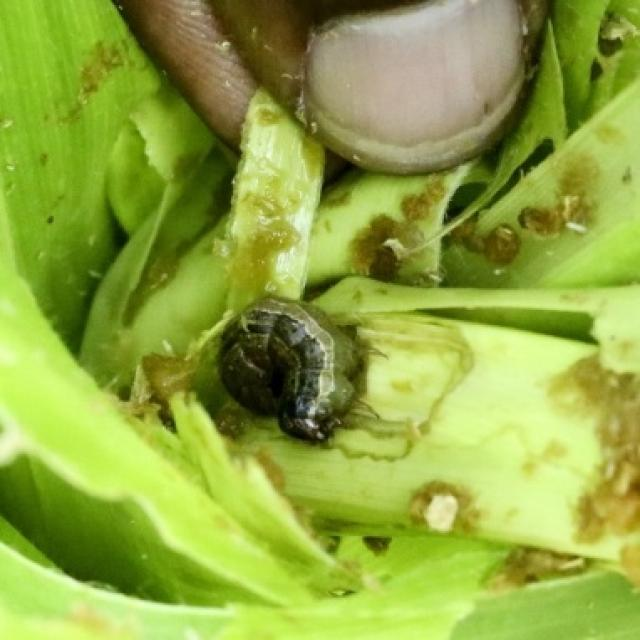Fall-armyworm: (222, 288, 365, 449)
